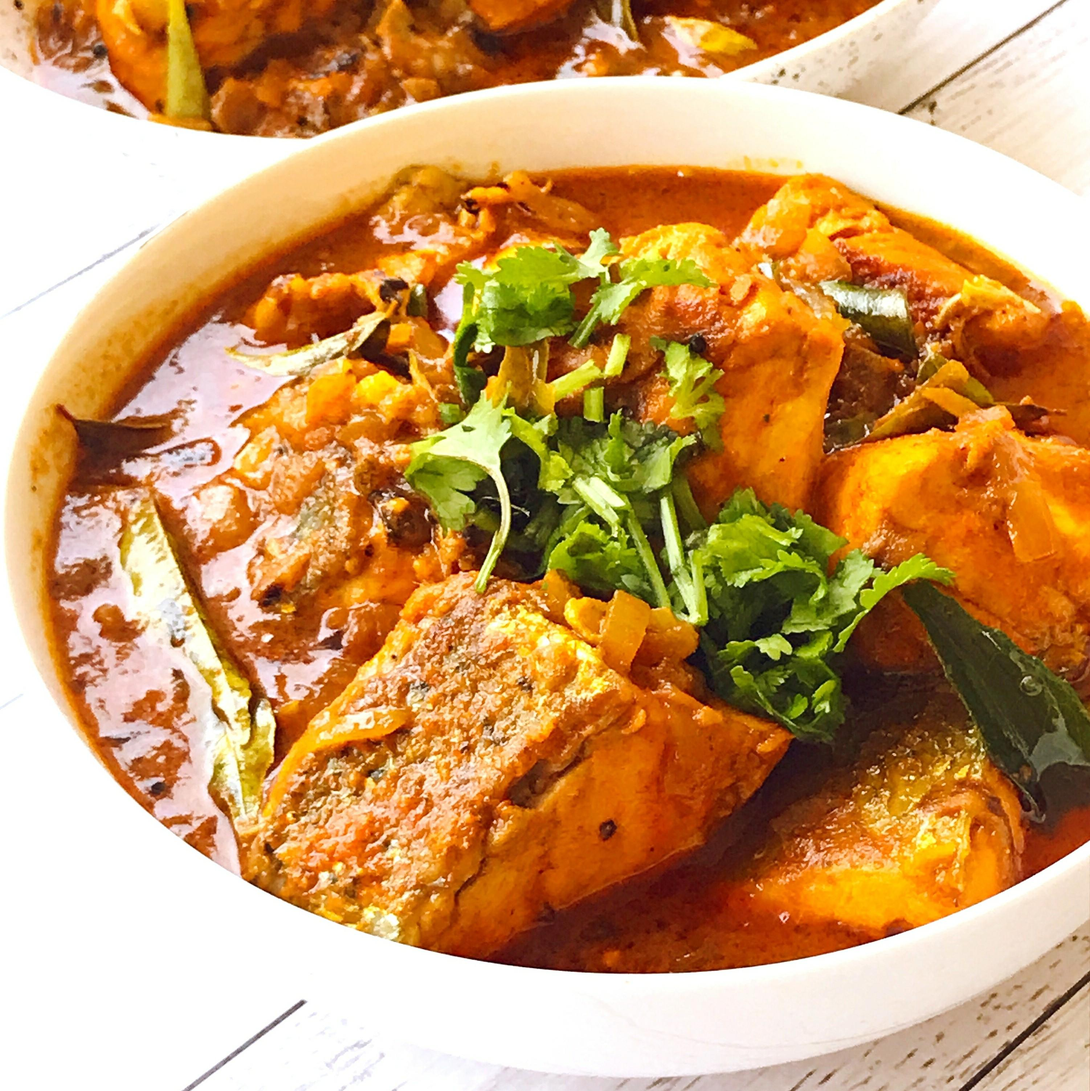FishCurry: (59, 169, 1090, 969)
